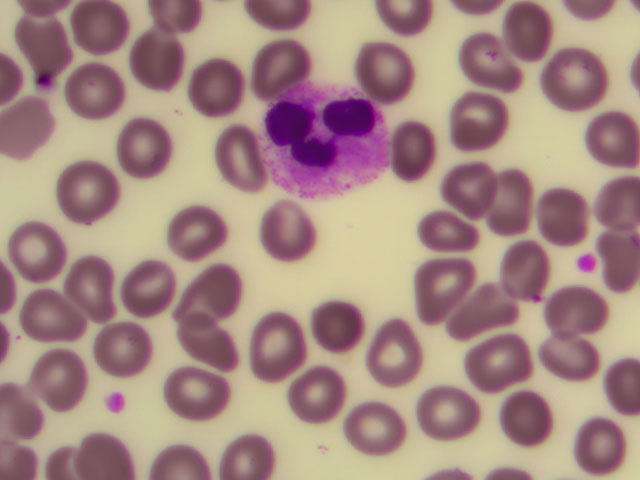Platelets: (571, 252, 600, 272), (103, 393, 125, 412)
RBC: (67, 419, 128, 480), (150, 419, 211, 480), (202, 419, 263, 480), (576, 419, 637, 480), (12, 16, 73, 76), (65, 62, 126, 122), (128, 31, 189, 91), (191, 52, 252, 112), (253, 33, 314, 93), (202, 128, 263, 188), (119, 120, 180, 180), (54, 160, 115, 220), (167, 195, 228, 255), (263, 202, 324, 262), (184, 260, 245, 320), (184, 318, 245, 378), (103, 316, 164, 376), (120, 261, 181, 321), (60, 251, 121, 311), (25, 288, 86, 348), (17, 219, 78, 279), (30, 337, 91, 397), (163, 369, 224, 429), (244, 315, 305, 375), (280, 358, 341, 418), (304, 294, 365, 354), (361, 320, 422, 380), (339, 390, 400, 450), (422, 384, 483, 444), (461, 330, 522, 390), (452, 286, 513, 346), (411, 251, 472, 311), (411, 215, 472, 275), (430, 165, 491, 225), (402, 123, 463, 183), (354, 41, 415, 101), (374, 1, 435, 61), (450, 26, 511, 86), (455, 90, 516, 150), (485, 167, 546, 227), (533, 184, 594, 244), (543, 54, 604, 114), (579, 105, 640, 165), (579, 169, 640, 229), (553, 287, 614, 347), (545, 331, 606, 391), (498, 391, 559, 451), (492, 236, 553, 296), (1, 104, 61, 164), (63, 1, 124, 60), (497, 1, 558, 60)
WBC: (267, 87, 390, 201)
